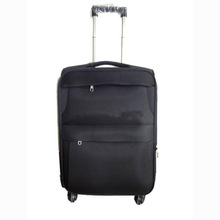luggage: (55, 4, 161, 207)
